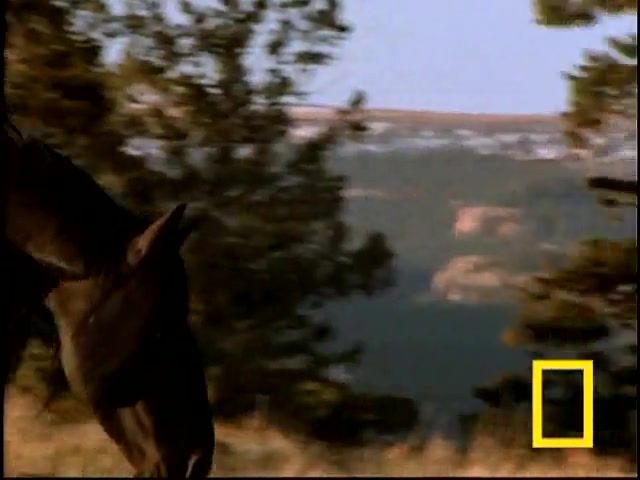horse: (3, 116, 216, 479)
